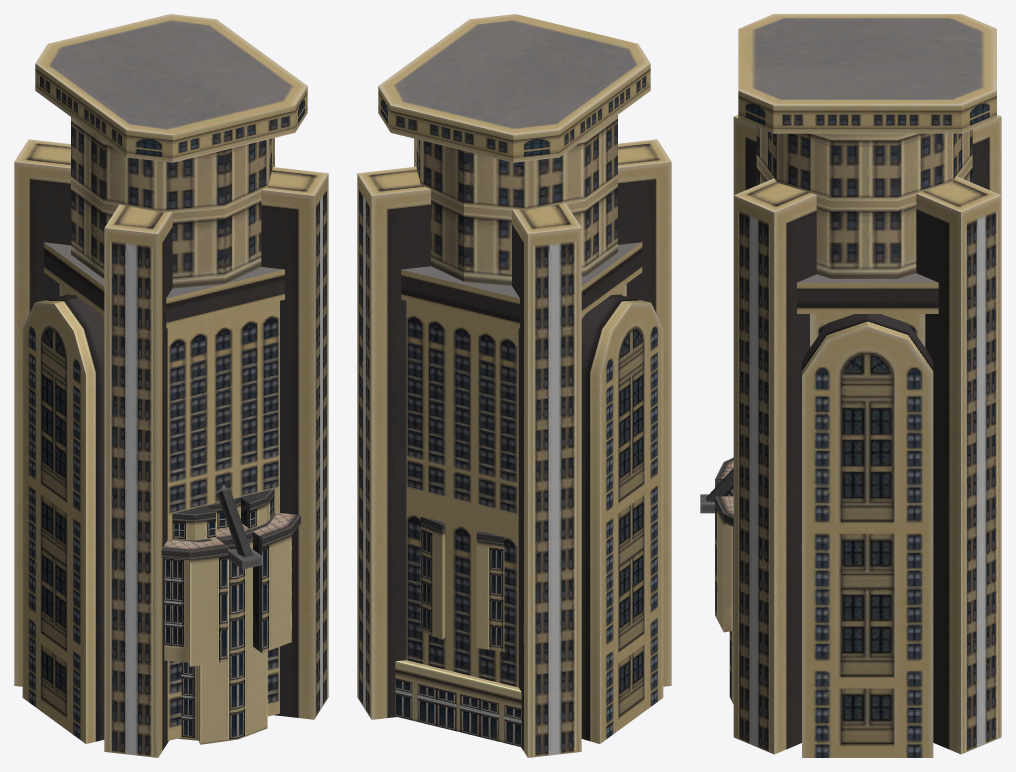
Rendered from huangse.FBX.
3 renders of one model, left to right at view 1: azimuth 30°, elevation 25°; view 2: azimuth 150°, elevation 25°; view 3: azimuth 270°, elevation 25°, orthographic. The views are drawn at different scales.
Visible parts, largest first — view 1: L1_huangse, Mesh_huangse, L0_huangse; view 2: L1_huangse, L0_huangse, Mesh_huangse; view 3: L1_huangse, Mesh_huangse.
Boxes of the visible parts, left/top/right/bottom form: L1_huangse: left=14, top=14, right=328, bottom=757; Mesh_huangse: left=161, top=484, right=300, bottom=666; L0_huangse: left=171, top=497, right=276, bottom=744; L1_huangse: left=357, top=14, right=671, bottom=757; L0_huangse: left=395, top=660, right=521, bottom=747; Mesh_huangse: left=420, top=516, right=504, bottom=651; L1_huangse: left=733, top=14, right=1001, bottom=757; Mesh_huangse: left=700, top=457, right=801, bottom=632.
Bounding box in the file's own units: 426 × 1073 × 459.
Materials: 2 (2 with a texture image).
